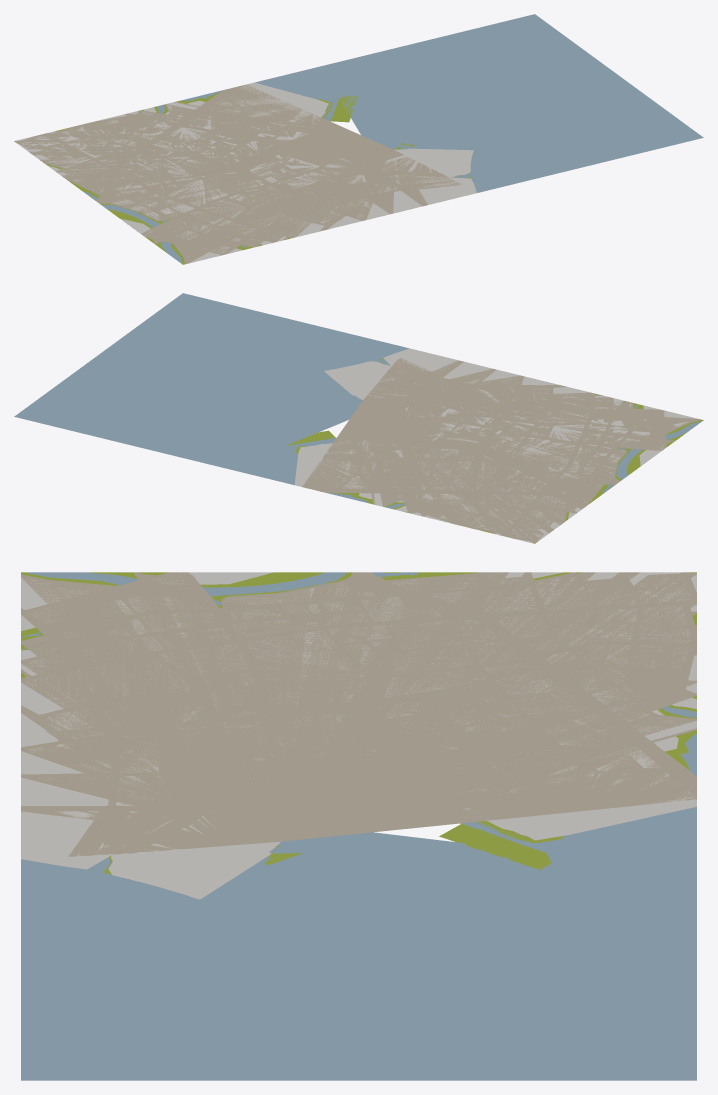
File: 20220326_SGP_Noninteractive_0.fbx
The picture shows the model from 3 angles, top to bottom: view 1: azimuth 30°, elevation 25°; view 2: azimuth 150°, elevation 25°; view 3: azimuth 270°, elevation 25°; orthographic projection. The views are drawn at different scales.
Visible parts, largest first — view 1: CityEngineMaterial_2_m, CityEngineMaterial_4_m, CityEngineMaterial_m, CityEngineMaterial_1_m; view 2: CityEngineMaterial_2_m, CityEngineMaterial_4_m, CityEngineMaterial_m, CityEngineMaterial_1_m; view 3: CityEngineMaterial_4_m, CityEngineMaterial_2_m, CityEngineMaterial_m, CityEngineMaterial_1_m.
Boxes of the visible parts, left/top/right/bottom form: CityEngineMaterial_2_m: left=84, top=14, right=703, bottom=263; CityEngineMaterial_4_m: left=15, top=84, right=461, bottom=264; CityEngineMaterial_m: left=17, top=82, right=476, bottom=263; CityEngineMaterial_1_m: left=14, top=93, right=470, bottom=264; CityEngineMaterial_2_m: left=14, top=293, right=702, bottom=508; CityEngineMaterial_4_m: left=302, top=358, right=701, bottom=543; CityEngineMaterial_m: left=294, top=348, right=698, bottom=543; CityEngineMaterial_1_m: left=286, top=358, right=703, bottom=543; CityEngineMaterial_4_m: left=21, top=572, right=696, bottom=856; CityEngineMaterial_2_m: left=21, top=572, right=696, bottom=1080; CityEngineMaterial_m: left=21, top=572, right=696, bottom=899; CityEngineMaterial_1_m: left=21, top=572, right=696, bottom=874.
Size of the model in its own units: 3744 by 0.15 by 2104.
